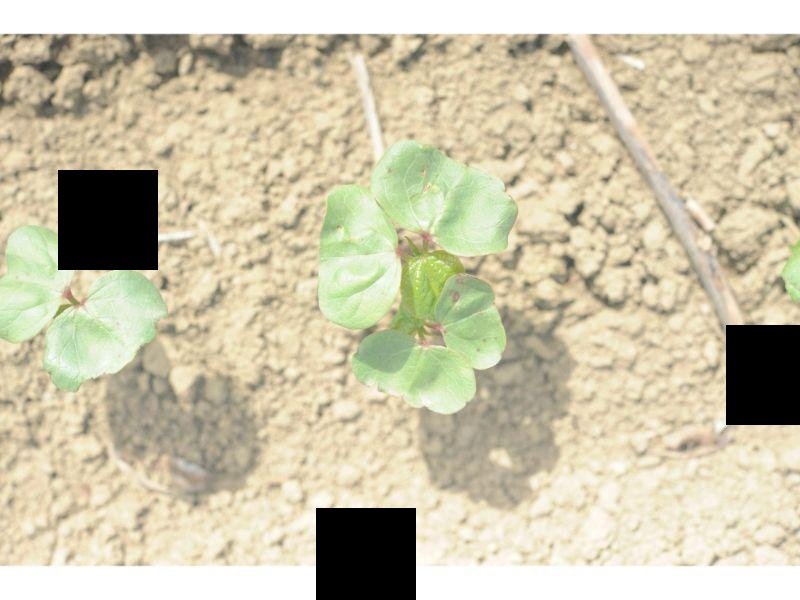cotton: (316, 141, 520, 417), (0, 220, 165, 391)
